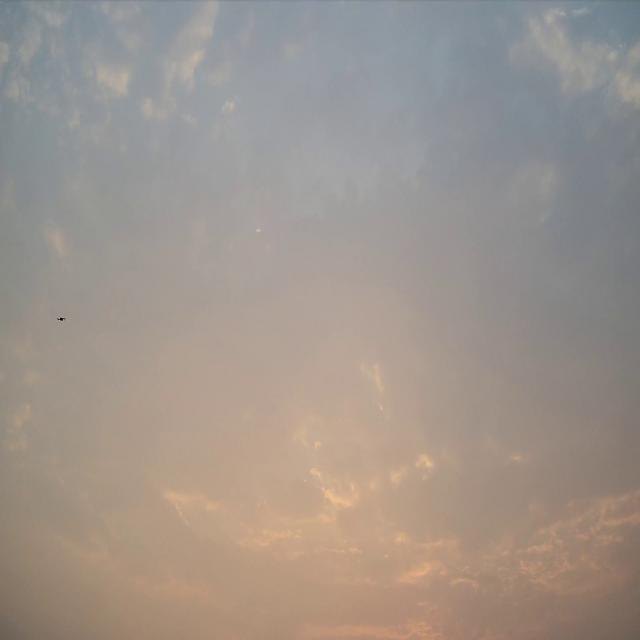drone: (56, 316, 66, 322)
